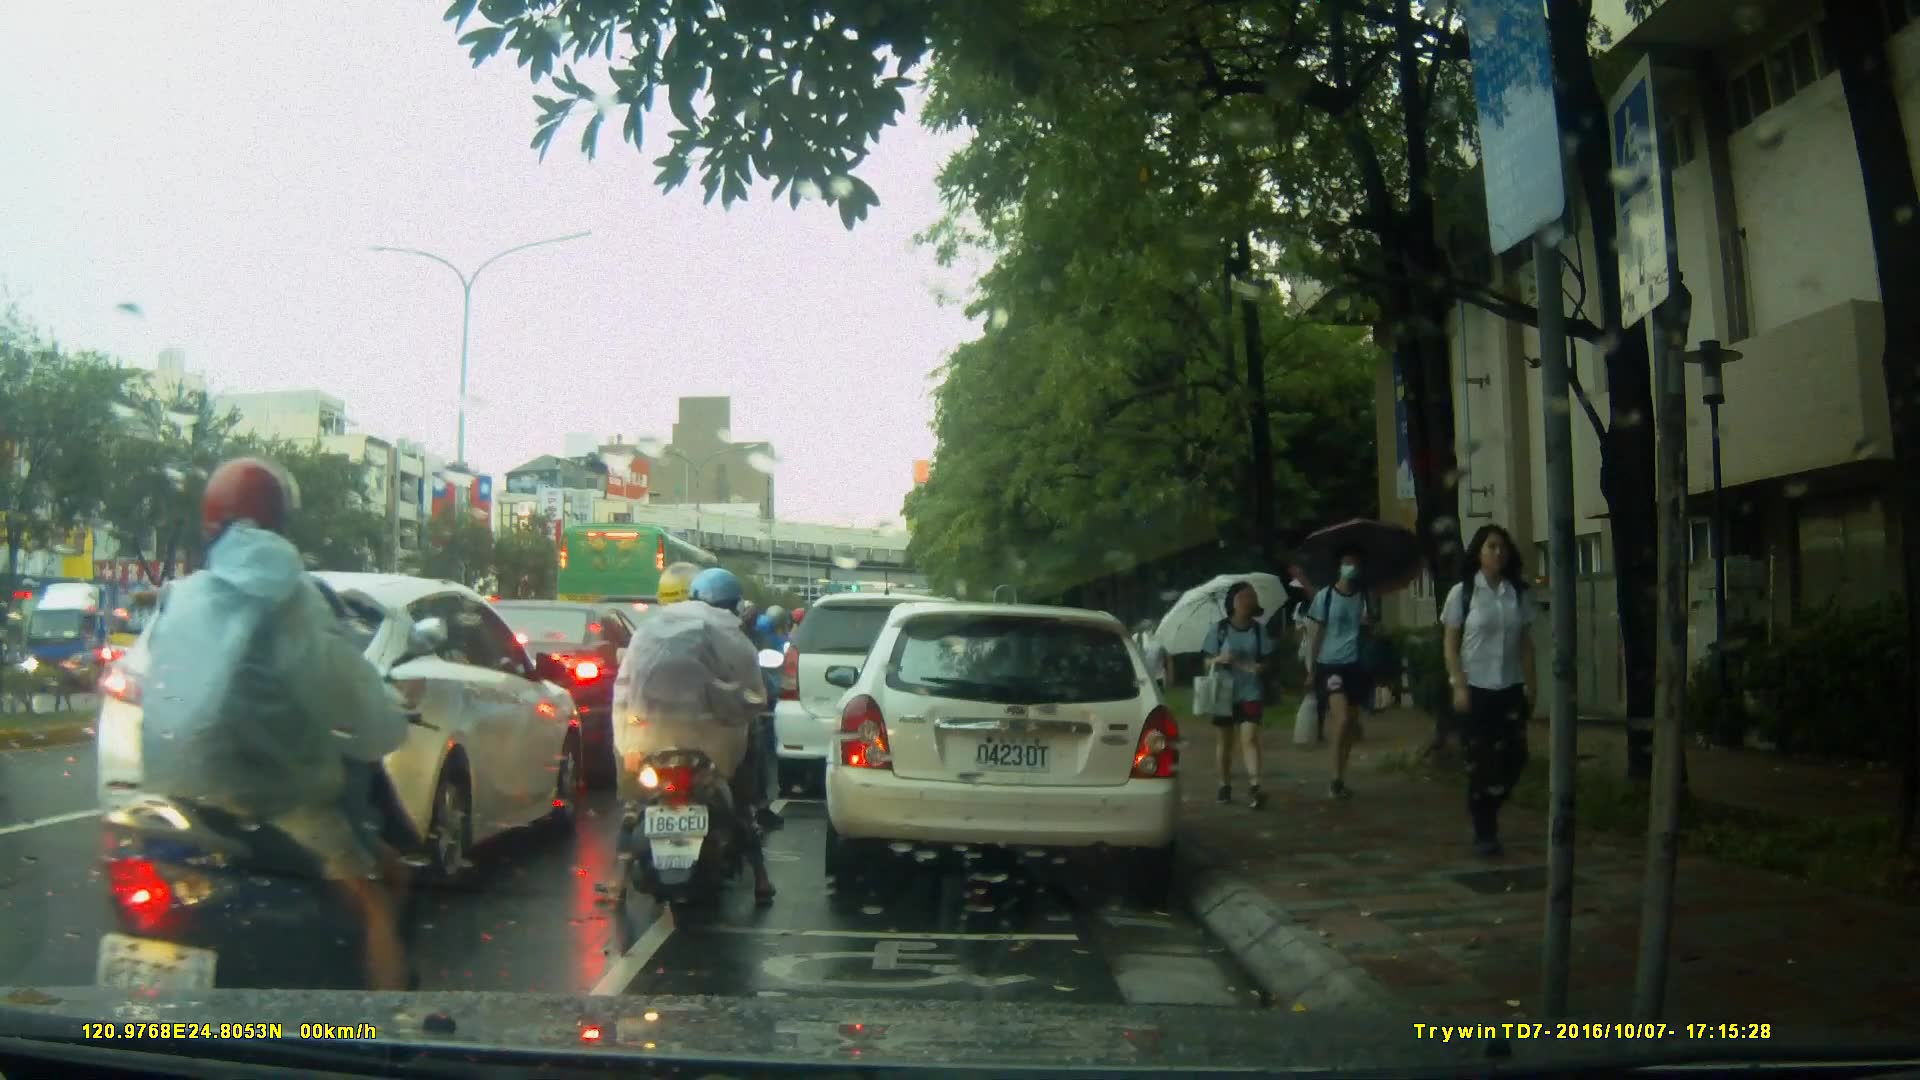pedestrian: (1429, 519, 1552, 865), (1295, 547, 1386, 809), (1197, 574, 1280, 816), (1132, 603, 1173, 744)
rider: (53, 454, 437, 1031), (590, 562, 781, 919), (653, 584, 761, 824)
vehicle: (93, 569, 587, 883), (822, 604, 1186, 882), (774, 595, 995, 802), (554, 519, 739, 666), (20, 576, 199, 697)
